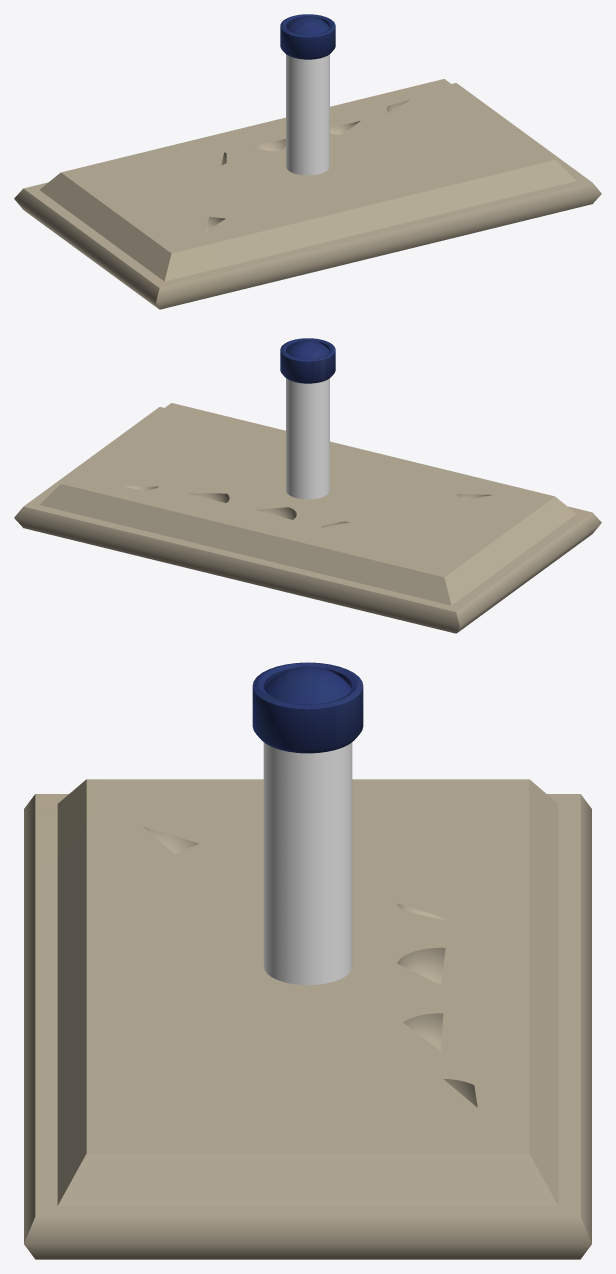
File: Rack_Liquid.fbx
3 renders of one model, top to bottom at view 1: azimuth 30°, elevation 25°; view 2: azimuth 150°, elevation 25°; view 3: azimuth 270°, elevation 25°, orthographic. The views are drawn at different scales.
Parts seen in each view (by area): view 1: Plate, Glass, Top; view 2: Plate, Glass, Top; view 3: Plate, Glass, Top.
Part boxes in pixels (left/top/right/bottom): Plate: left=14, top=79, right=601, bottom=309; Glass: left=286, top=54, right=329, bottom=175; Top: left=280, top=14, right=335, bottom=59; Plate: left=14, top=403, right=601, bottom=633; Glass: left=286, top=378, right=329, bottom=499; Top: left=280, top=338, right=335, bottom=383; Plate: left=24, top=779, right=591, bottom=1259; Glass: left=263, top=742, right=352, bottom=984; Top: left=252, top=662, right=363, bottom=753.
Size of the model in its own units: 465 by 188 by 256.
